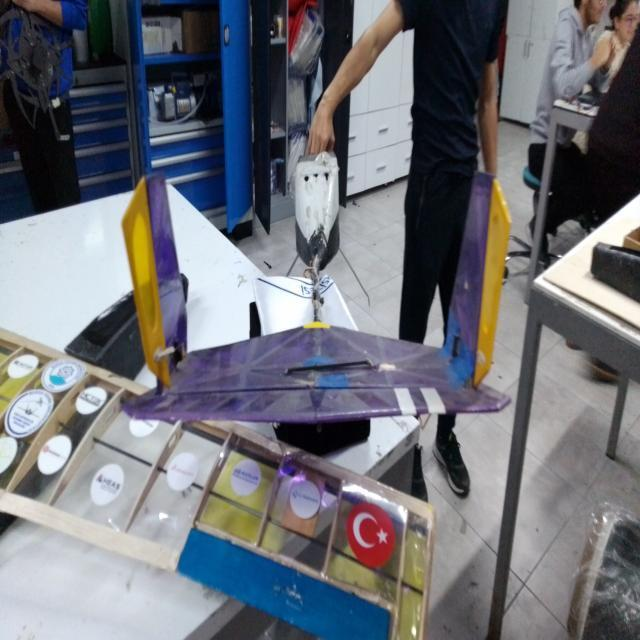UAV: (108, 114, 584, 476)
